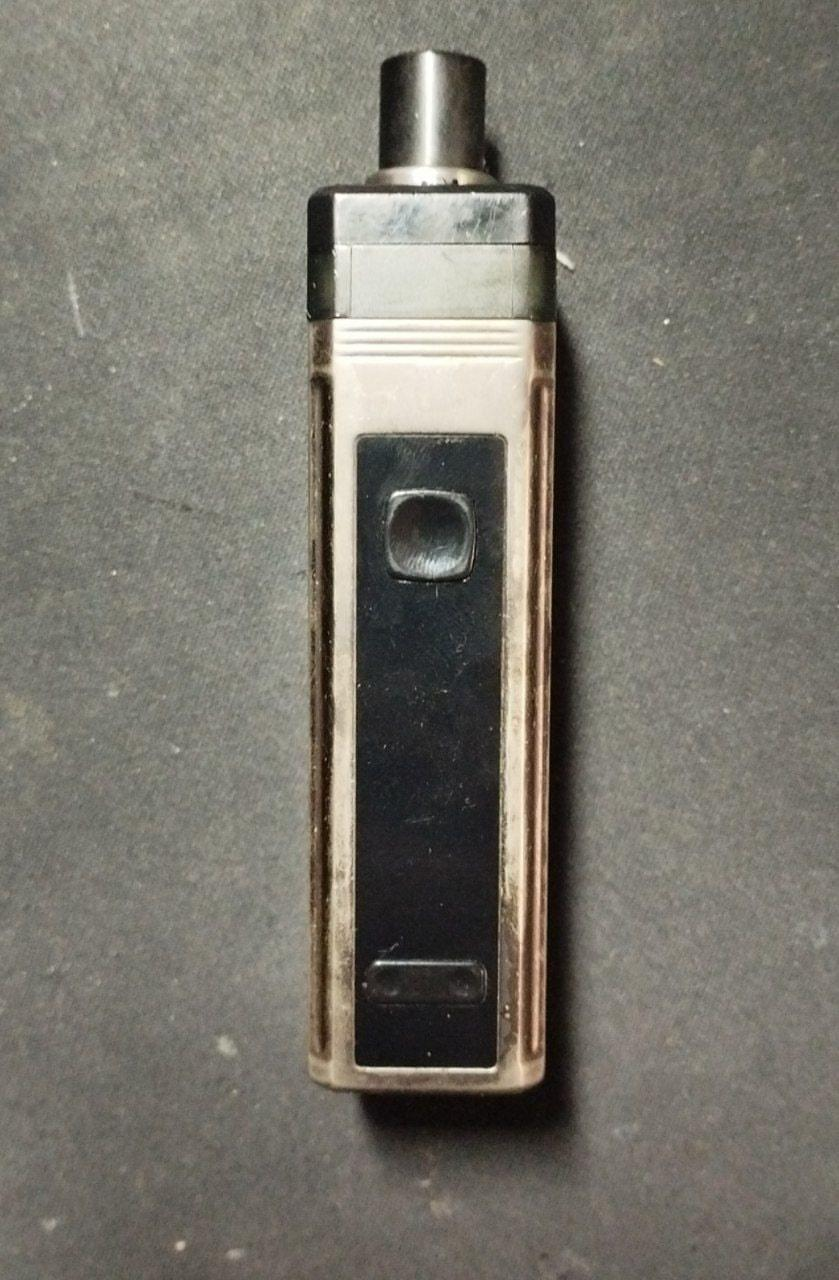Vape: (307, 50, 563, 1095)
